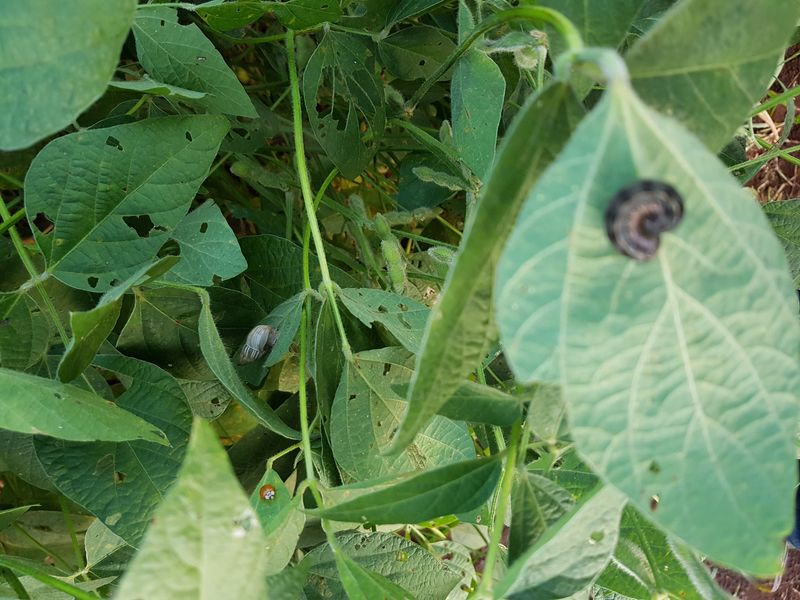Coccinellidae: (248, 476, 281, 509)
Gastropoda: (224, 317, 286, 371)
Spodoptera_albula: (588, 168, 700, 278)
